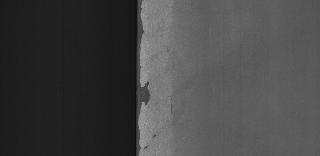water spot: (128, 0, 162, 156)
